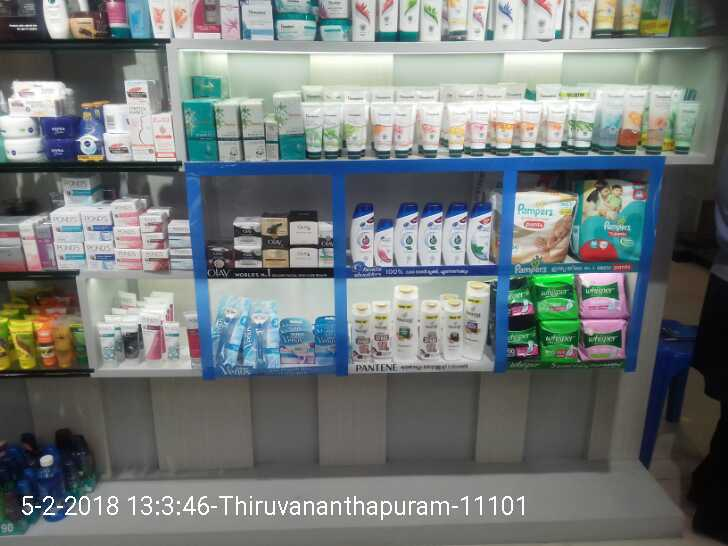venus: (245, 302, 279, 368), (212, 298, 239, 364), (281, 316, 315, 363), (315, 317, 335, 363)
